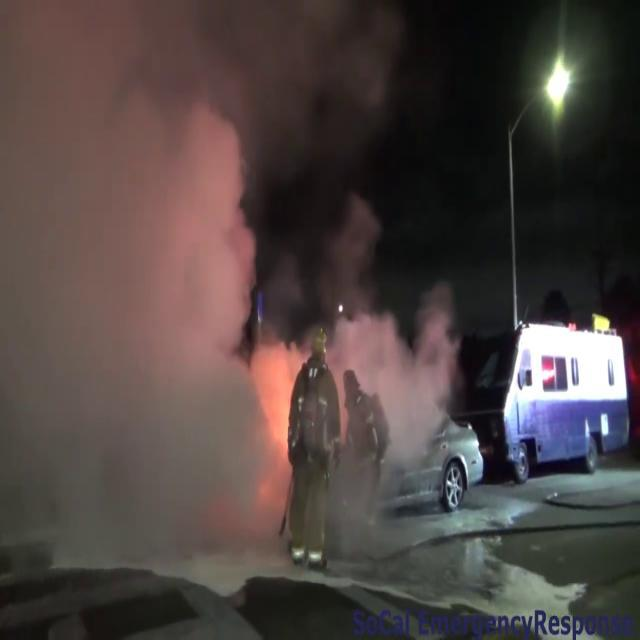Smoke: (0, 0, 297, 628), (316, 268, 466, 458)
